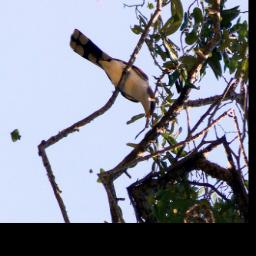Cuckoo: (54, 23, 167, 129)
